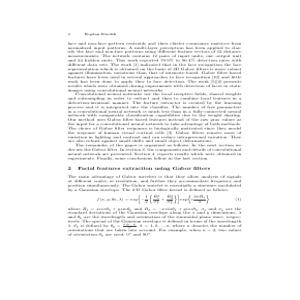text: (66, 29, 243, 240)
